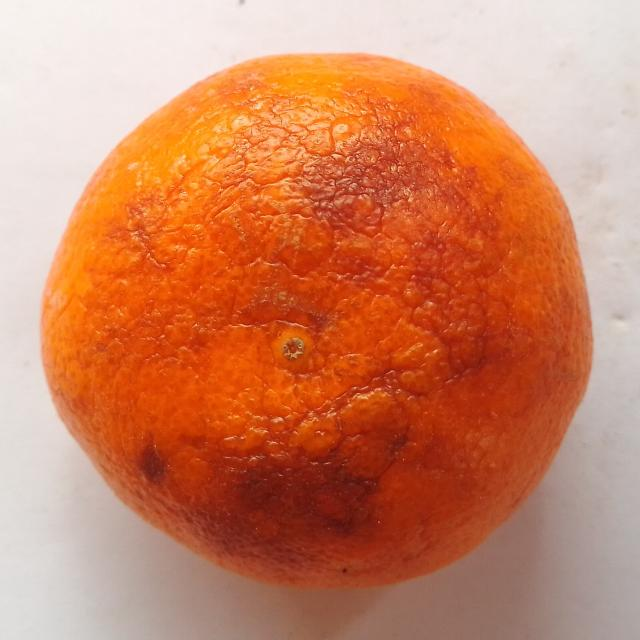orange: (42, 55, 591, 586)
